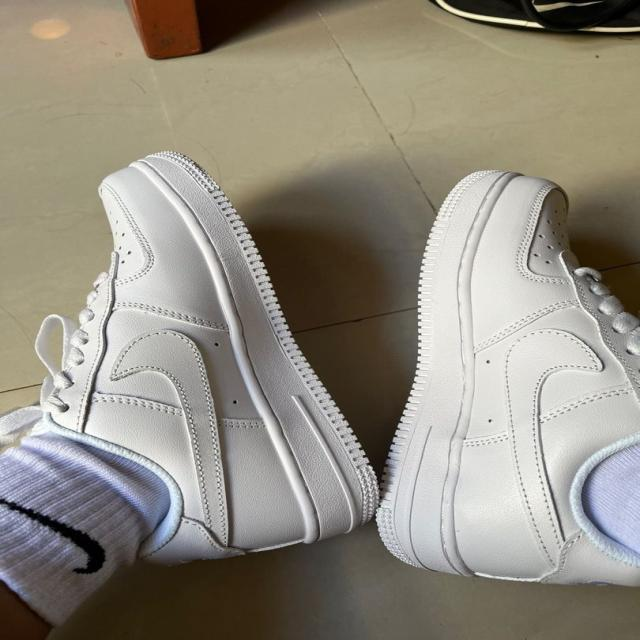nike original air force: (26, 150, 382, 570), (375, 166, 640, 594)
